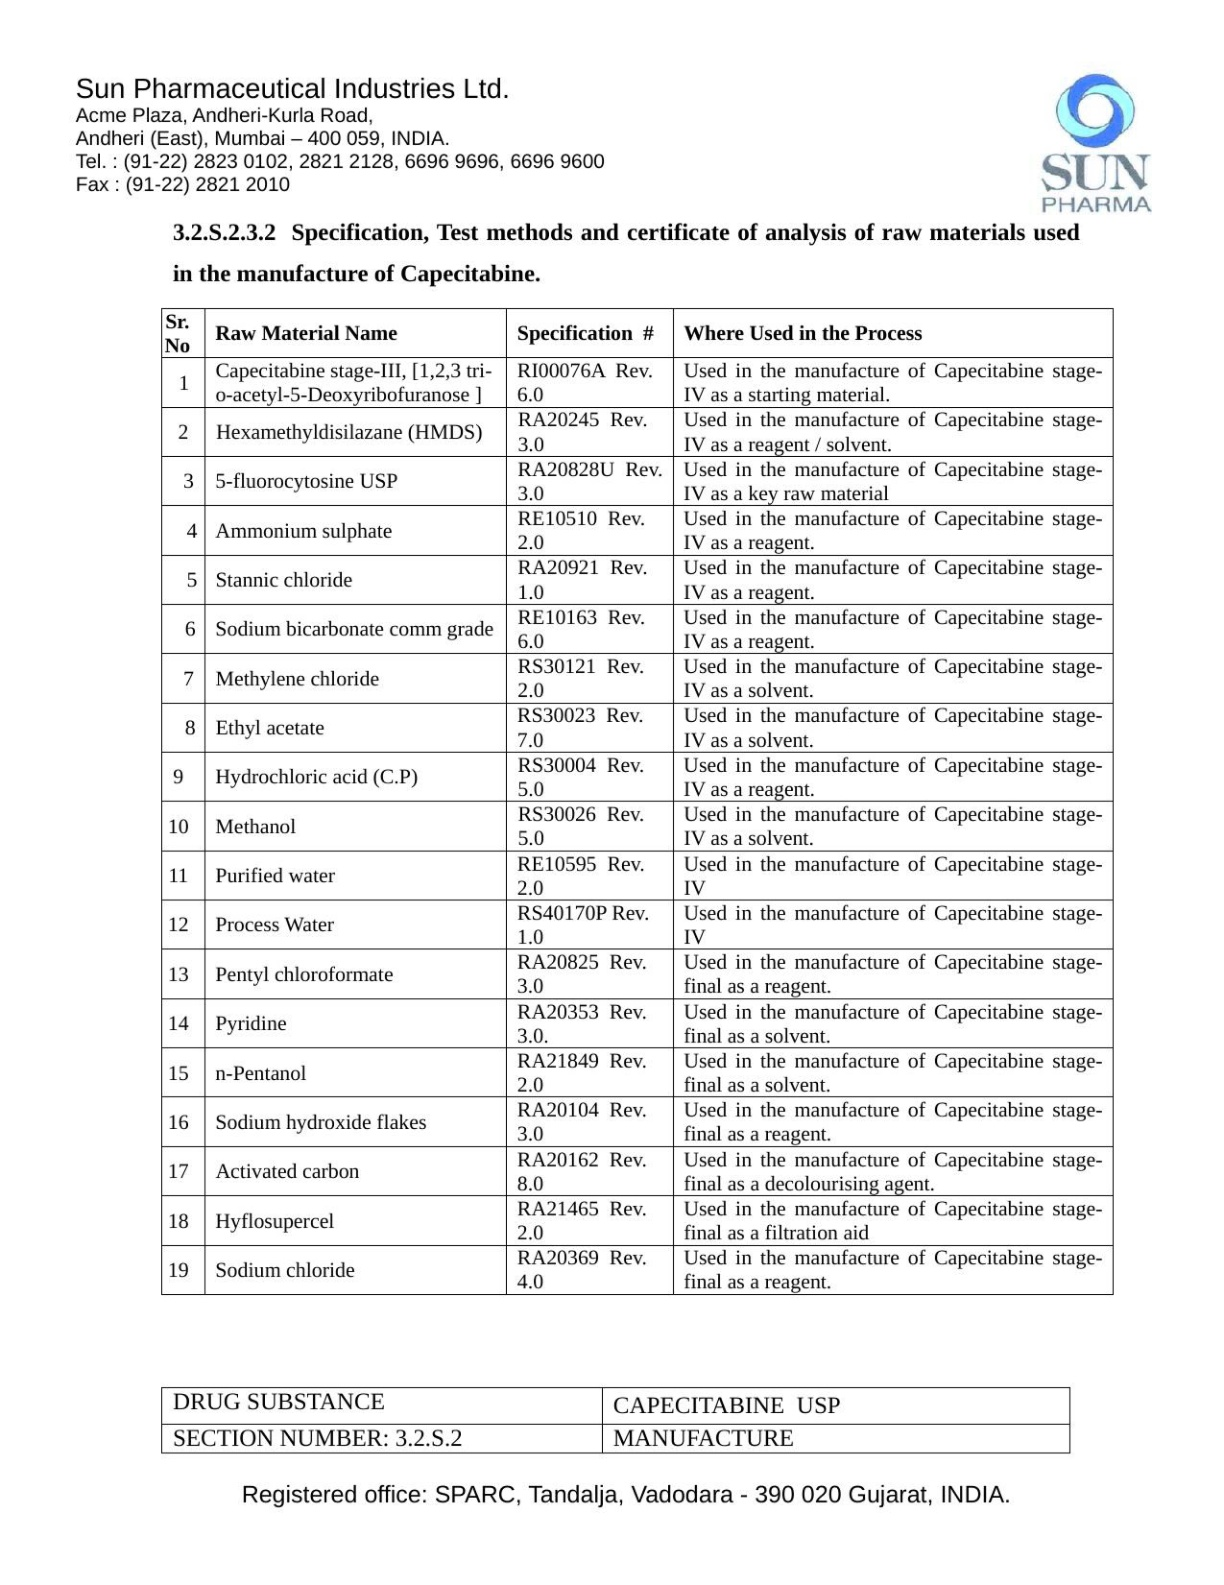full_lined: (141, 297, 1126, 1307), (152, 1368, 1084, 1465)
